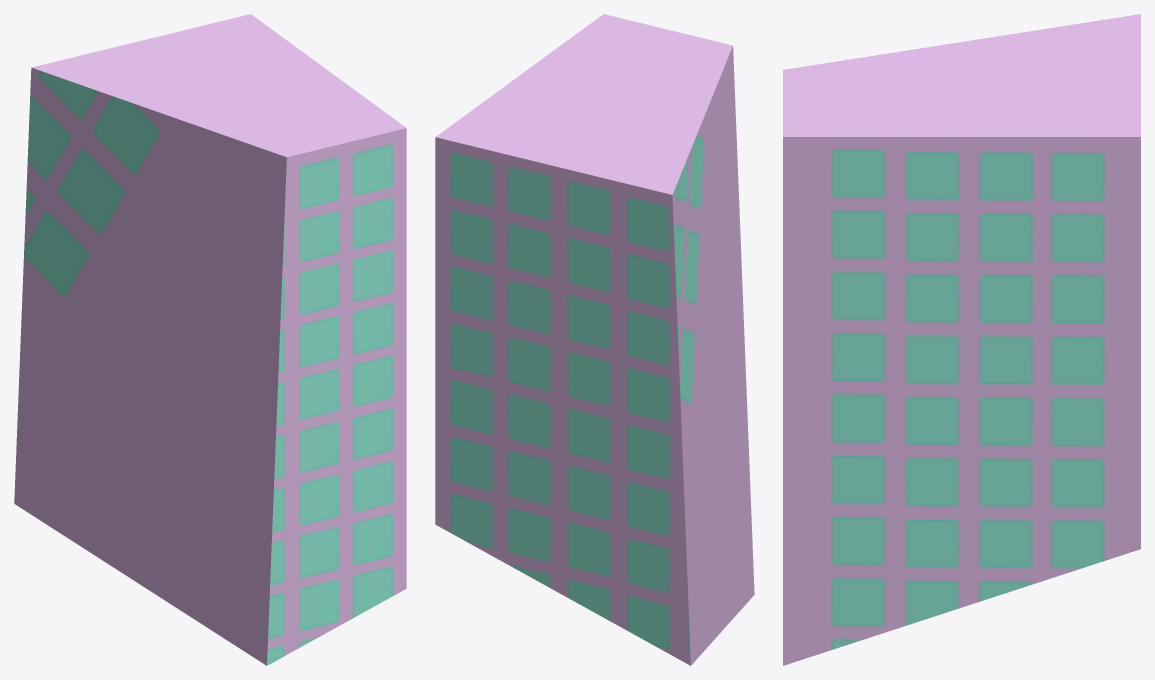
The model's file is r1Shard1.fbx.
3 renders of one model, left to right at view 1: azimuth 30°, elevation 25°; view 2: azimuth 150°, elevation 25°; view 3: azimuth 270°, elevation 25°, orthographic. The views are drawn at different scales.
Visible parts, largest first — view 1: shard74; view 2: shard74; view 3: shard74.
Part boxes in pixels (x1,y1,x2,y2): shard74: [14, 14, 406, 665]; shard74: [435, 14, 754, 665]; shard74: [783, 14, 1140, 665].
Size of the model in its own units: 0.0779 by 0.1584 by 0.0888.
Materials: 1 (1 with a texture image).
